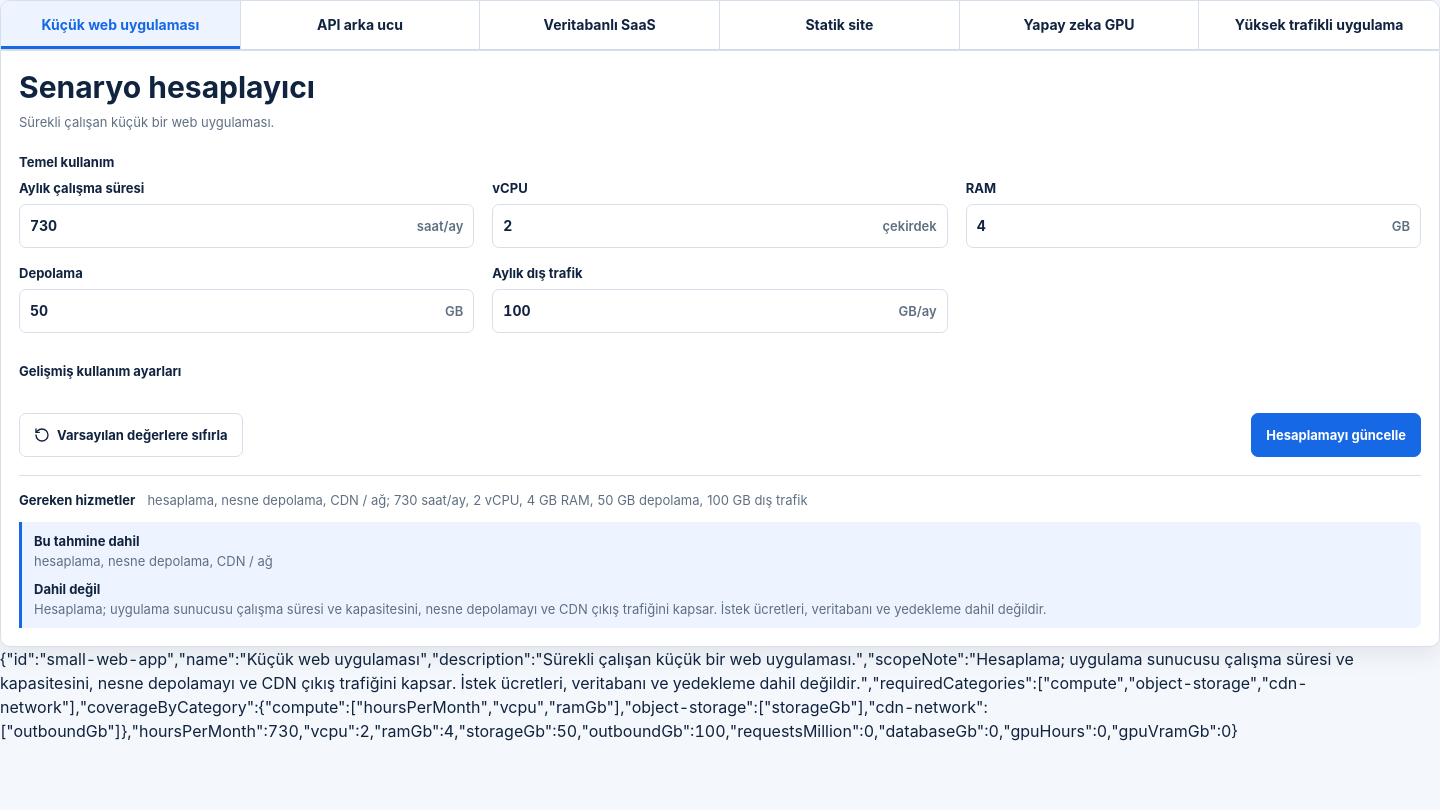
Test: ScenarioCalculator › groups active preset fields and exposes the mobile scenario control
Expected: the number field labelled "Aylık GPU kullanımı" is not shown
Click the heading "Gelişmiş kullanım ayarları" at (100, 370), box [19, 362, 181, 378]
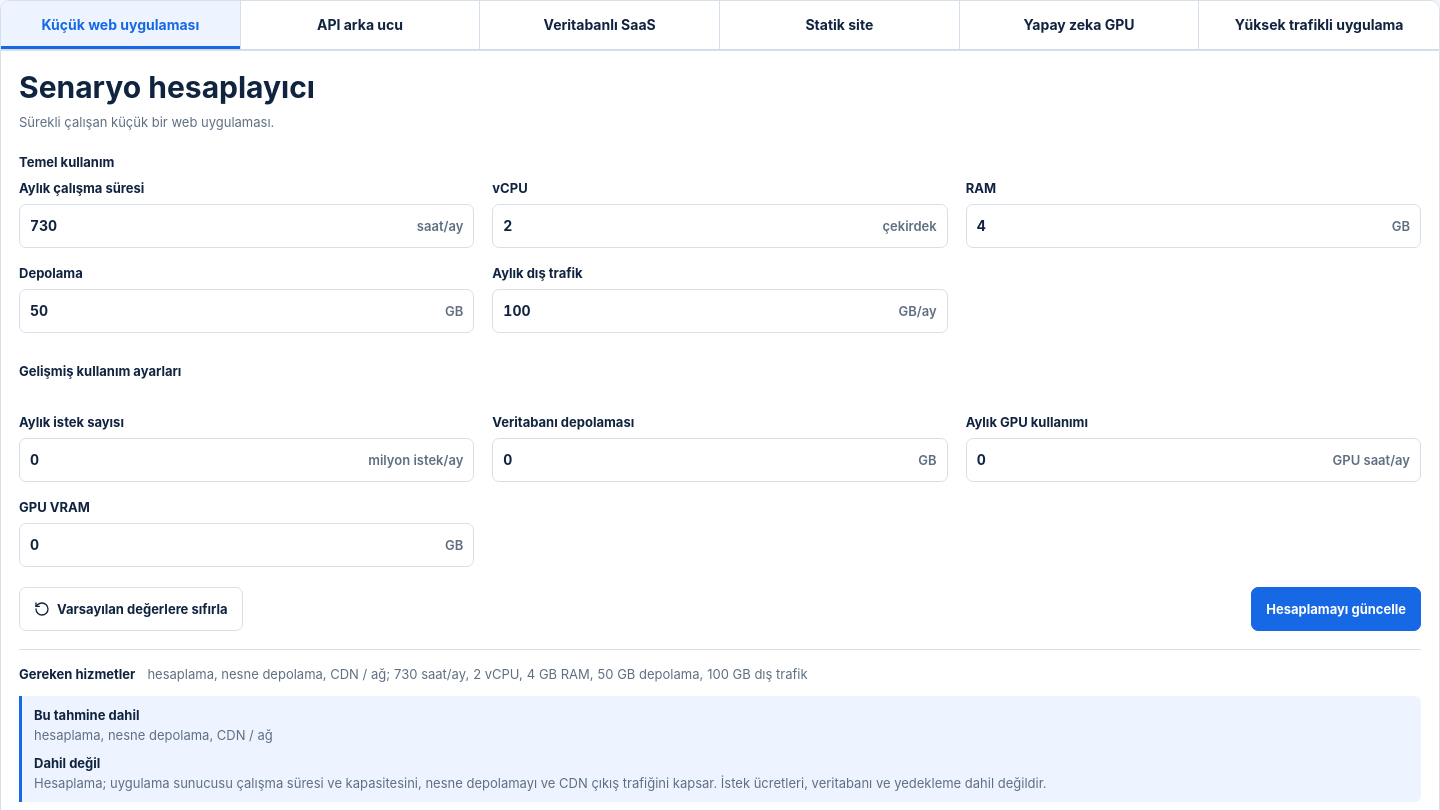
Expected: the text "Bu tahmine dahil" is shown, [34, 706, 139, 722]
Expected: the number field labelled "Aylık GPU kullanımı" is shown, [967, 438, 1323, 480]
